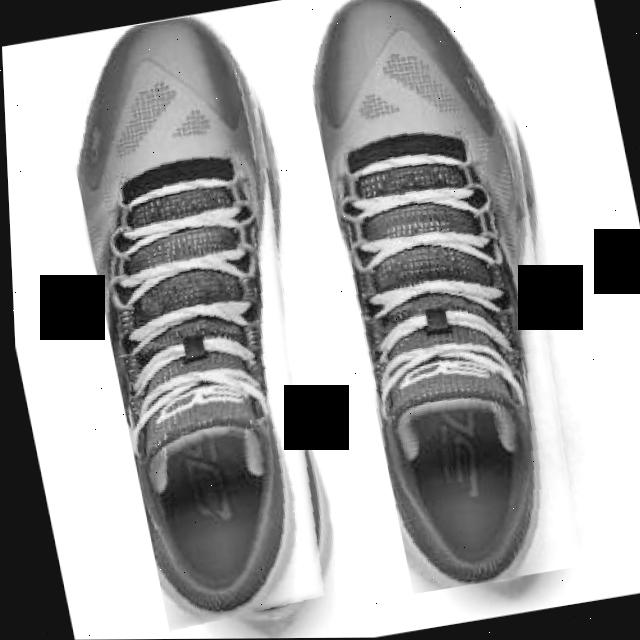shoe: (48, 7, 362, 635), (292, 0, 607, 595)
